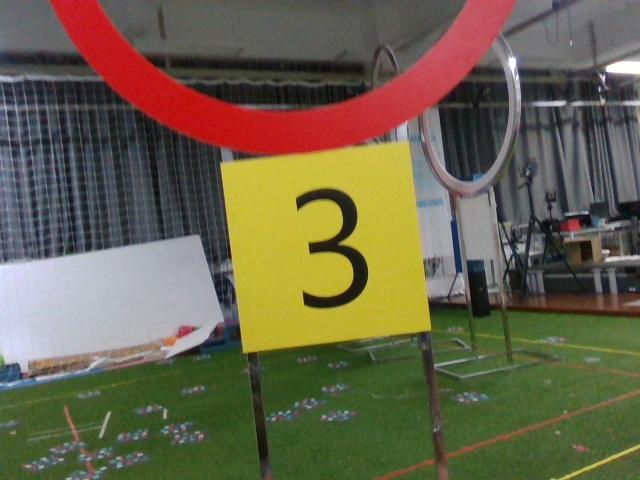target: (241, 164, 423, 341)
